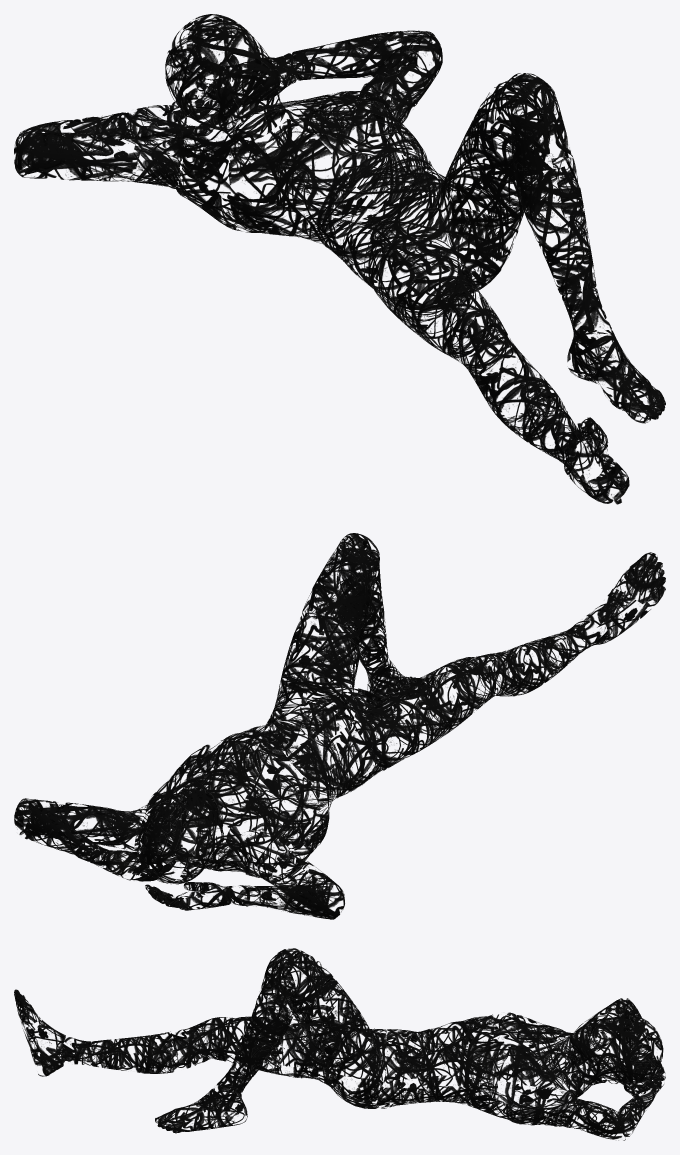
The picture shows the model from 3 angles, top to bottom: view 1: azimuth 30°, elevation 25°; view 2: azimuth 150°, elevation 25°; view 3: azimuth 270°, elevation 25°; orthographic projection. The views are drawn at different scales.
Visible parts, largest first — view 1: Ch36; view 2: Ch36; view 3: Ch36.
Part boxes in pixels (x1,y1,x2,y2): Ch36: (14, 14, 665, 504); Ch36: (14, 533, 665, 919); Ch36: (14, 948, 665, 1140).
Bounding box in the file's own units: 2.43 × 1.5 × 5.21.
Materials: 1 (1 with a texture image).
